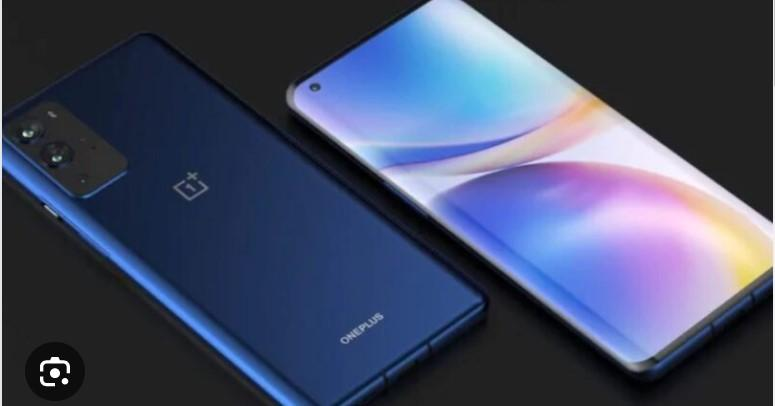Smart Phone: (284, 0, 774, 380), (3, 33, 489, 406)
